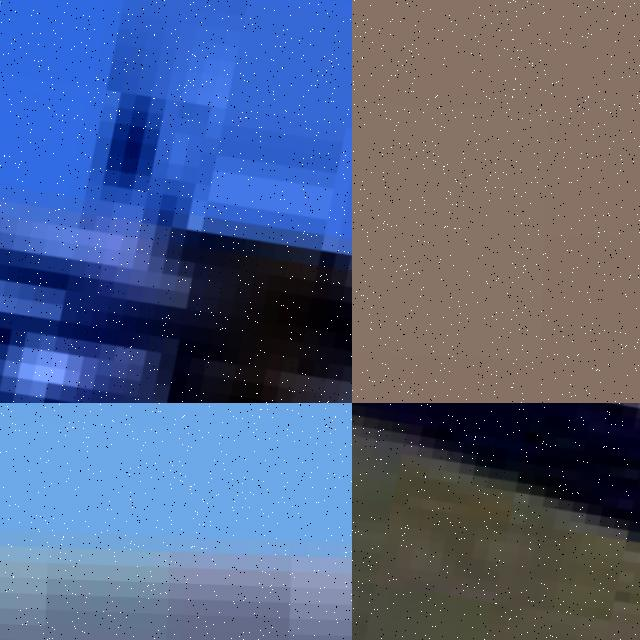drone: (0, 0, 352, 403), (352, 403, 640, 640)
